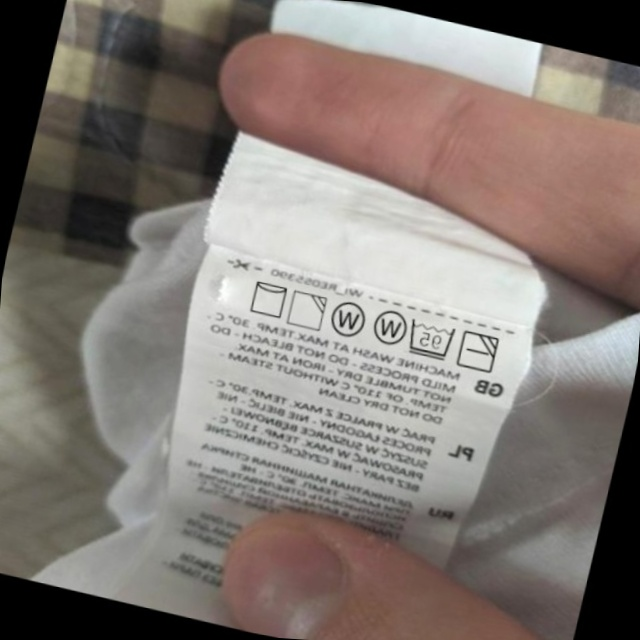95C: (402, 314, 459, 364)
dry_flat_in_shade: (454, 326, 503, 377)
line_dry: (244, 275, 292, 322)
shade_dry: (283, 286, 331, 334)
wet_clean: (325, 296, 370, 344), (367, 302, 411, 350)
